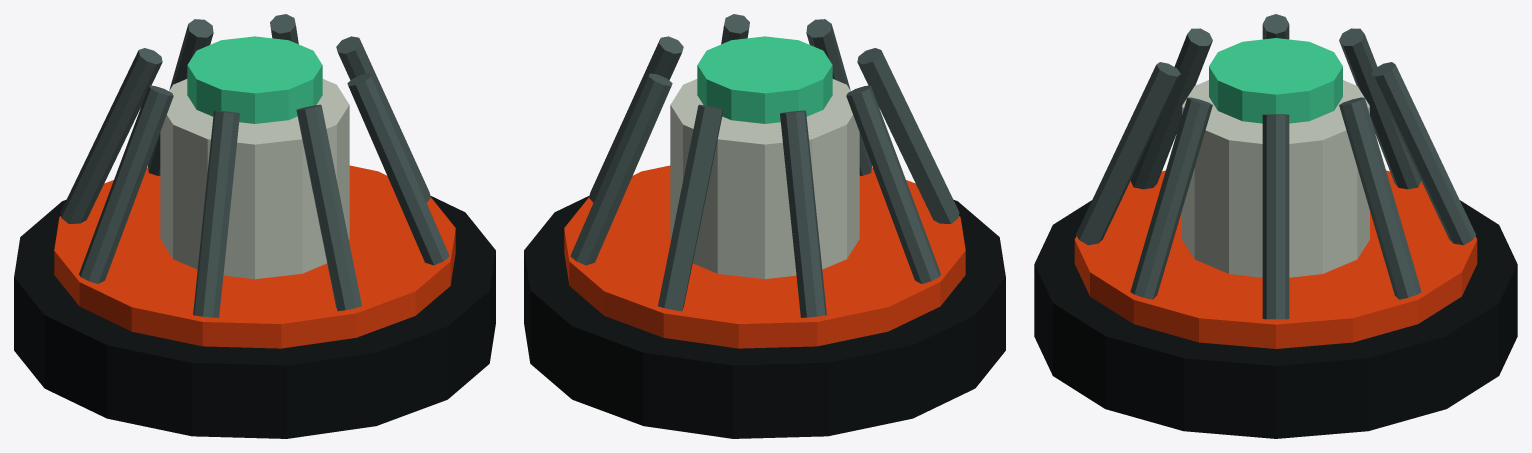
Rendered from SM_MP_Assembly_Point.fbx.
3 renders of one model, left to right at view 1: azimuth 30°, elevation 25°; view 2: azimuth 150°, elevation 25°; view 3: azimuth 270°, elevation 25°, orthographic.
Visible parts, largest first — view 1: SM_MP_Assembly_Point; view 2: SM_MP_Assembly_Point; view 3: SM_MP_Assembly_Point.
Boxes of the visible parts, bbox=[...] form: SM_MP_Assembly_Point: bbox=[14, 14, 495, 438]; SM_MP_Assembly_Point: bbox=[524, 14, 1005, 438]; SM_MP_Assembly_Point: bbox=[1034, 14, 1517, 438].
Size of the model in its own units: 360 by 360 by 224.
Materials: 1 (1 with a texture image).
